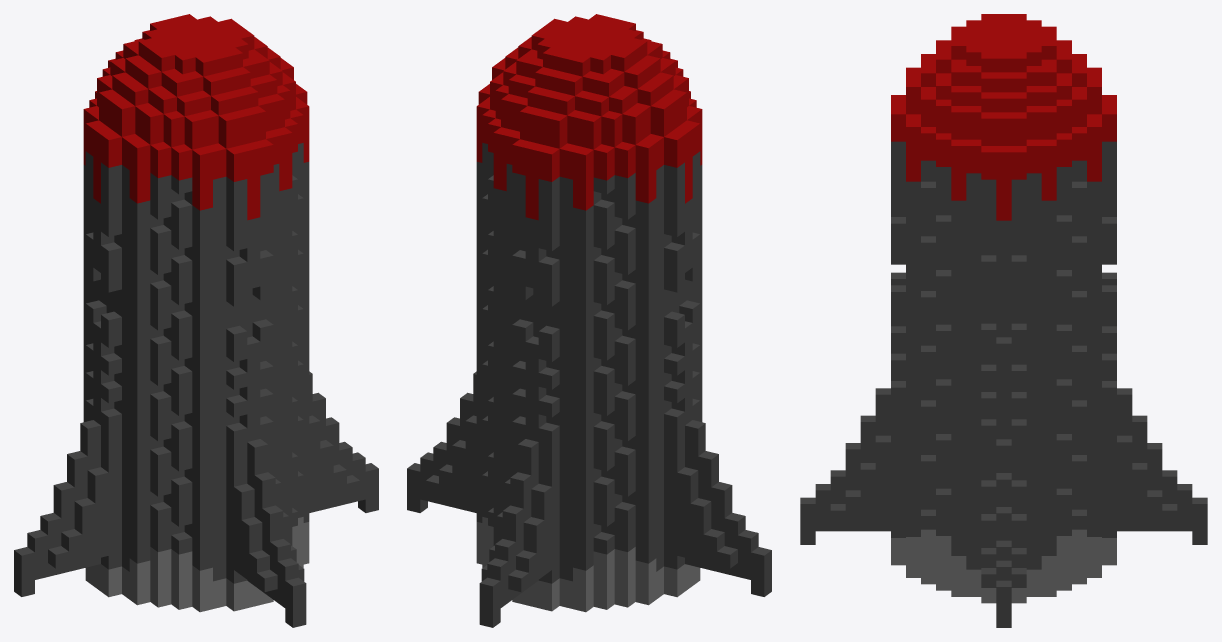
File: Assats_RobotWorkerRocket_Lava.FBX
3 views of the same model, side by side, from view 1: azimuth 30°, elevation 25°; view 2: azimuth 150°, elevation 25°; view 3: azimuth 270°, elevation 25° (orthographic).
Visible parts, largest first — view 1: default; view 2: default; view 3: default.
Boxes of the visible parts, <box> form: default: <box>14,14,378,627</box>; default: <box>407,14,771,627</box>; default: <box>800,14,1207,627</box>.
Size of the model in its own units: 27 by 38 by 27.
